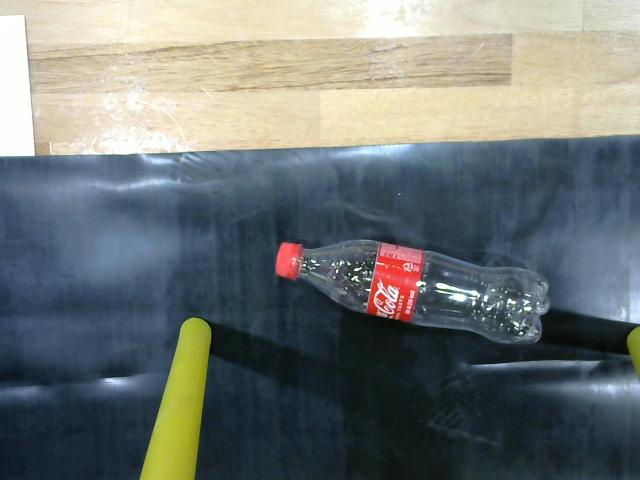bottle: (274, 227, 560, 356)
